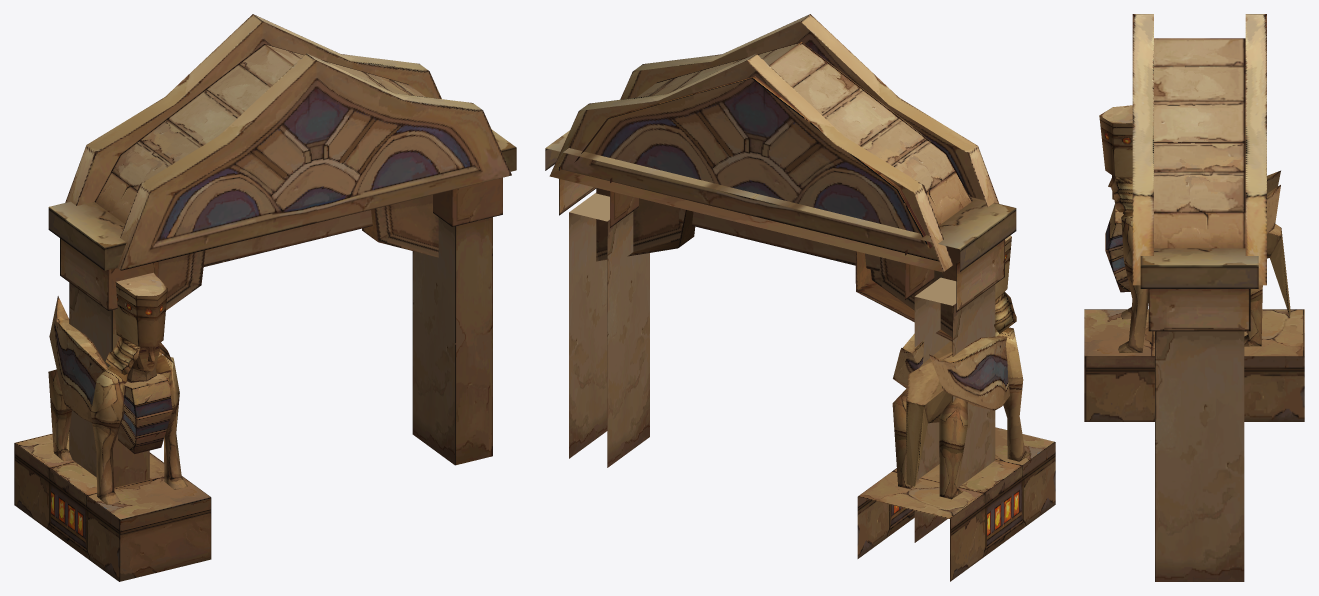
Rendered from 2_DG_DiaoSuMen_01.FBX.
The picture shows the model from 3 angles, left to right: view 1: azimuth 30°, elevation 25°; view 2: azimuth 150°, elevation 25°; view 3: azimuth 270°, elevation 25°; orthographic projection. The views are drawn at different scales.
Visible parts, largest first — view 1: 2_DG_DiaoSuMen_01, 2_DG_DiaoSuMen_02, 2_DG_DiaoSuMen_03; view 2: 2_DG_DiaoSuMen_01, 2_DG_DiaoSuMen_02, 2_DG_DiaoSuMen_03; view 3: 2_DG_DiaoSuMen_01, 2_DG_DiaoSuMen_03, 2_DG_DiaoSuMen_02.
Boxes of the visible parts, left/top/right/bottom form: 2_DG_DiaoSuMen_01: left=48, top=14, right=516, bottom=487; 2_DG_DiaoSuMen_02: left=48, top=272, right=187, bottom=504; 2_DG_DiaoSuMen_03: left=14, top=432, right=211, bottom=581; 2_DG_DiaoSuMen_01: left=545, top=14, right=1016, bottom=542; 2_DG_DiaoSuMen_02: left=892, top=235, right=1030, bottom=499; 2_DG_DiaoSuMen_03: left=857, top=427, right=1055, bottom=581; 2_DG_DiaoSuMen_01: left=1132, top=14, right=1266, bottom=581; 2_DG_DiaoSuMen_03: left=1084, top=309, right=1304, bottom=421; 2_DG_DiaoSuMen_02: left=1099, top=105, right=1290, bottom=352.
Bounding box in the file's own units: 1191 × 1210 × 510.
1 material, 1 textured.
